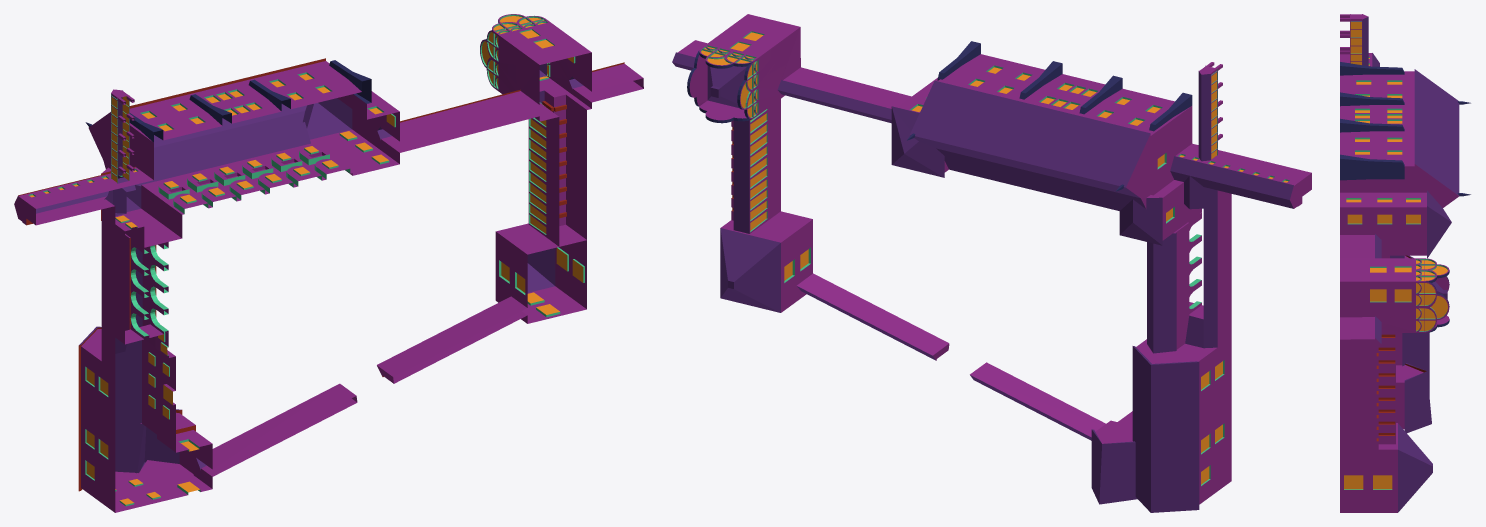
Rendered from Zamek Tier 3.fbx.
The picture shows the model from 3 angles, left to right: view 1: azimuth 30°, elevation 25°; view 2: azimuth 150°, elevation 25°; view 3: azimuth 270°, elevation 25°; orthographic projection. The views are drawn at different scales.
Parts seen in each view (by area): view 1: Zamek_zamek_bez_bramy; view 2: Zamek_zamek_bez_bramy; view 3: Zamek_zamek_bez_bramy.
Boxes of the visible parts, box(x1,y1,x2,y2) form: Zamek_zamek_bez_bramy: box(14, 14, 643, 512); Zamek_zamek_bez_bramy: box(672, 14, 1311, 512); Zamek_zamek_bez_bramy: box(1340, 14, 1470, 512).
Size of the model in its own units: 4.41 by 2.87 by 0.9078.
